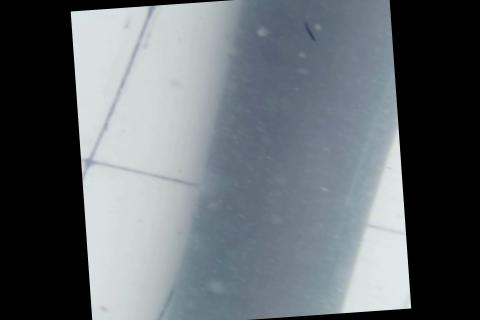keretakan: (300, 21, 316, 44)
